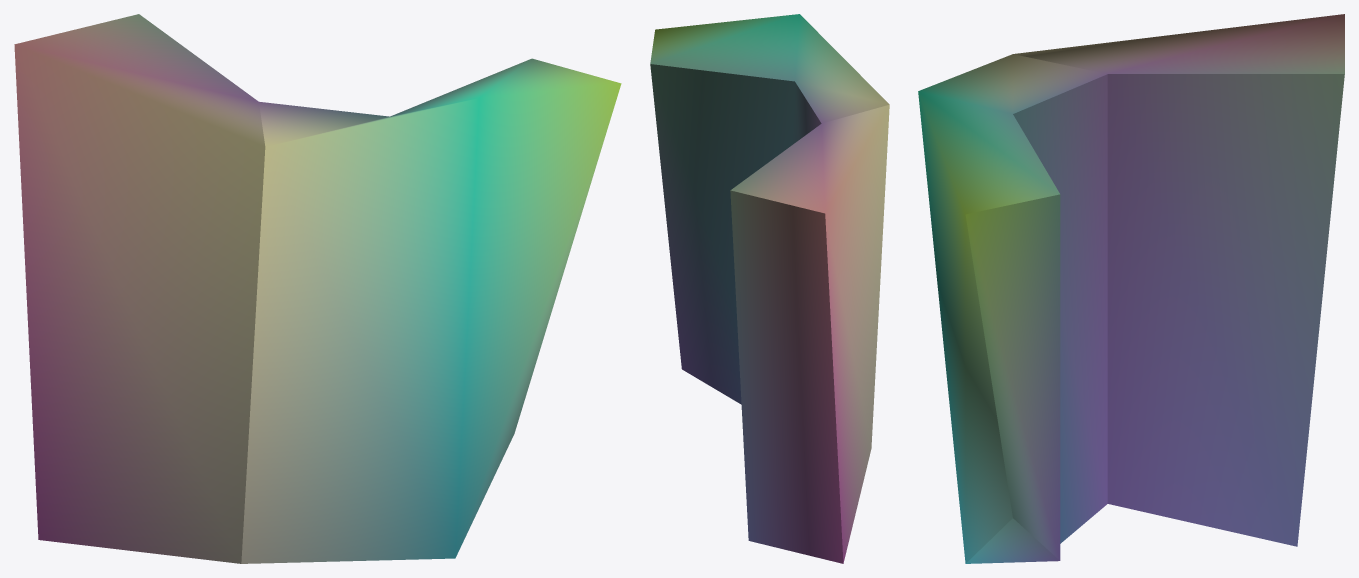
The picture shows the model from 3 angles, left to right: view 1: azimuth 30°, elevation 25°; view 2: azimuth 150°, elevation 25°; view 3: azimuth 270°, elevation 25°; orthographic projection. The views are drawn at different scales.
Visible parts, largest first — view 1: part; view 2: part; view 3: part.
Boxes of the visible parts, <box> form: part: <box>14,14,621,563</box>; part: <box>650,14,889,563</box>; part: <box>918,14,1344,563</box>.
Bounding box in the file's own units: 10 × 12 × 9.
